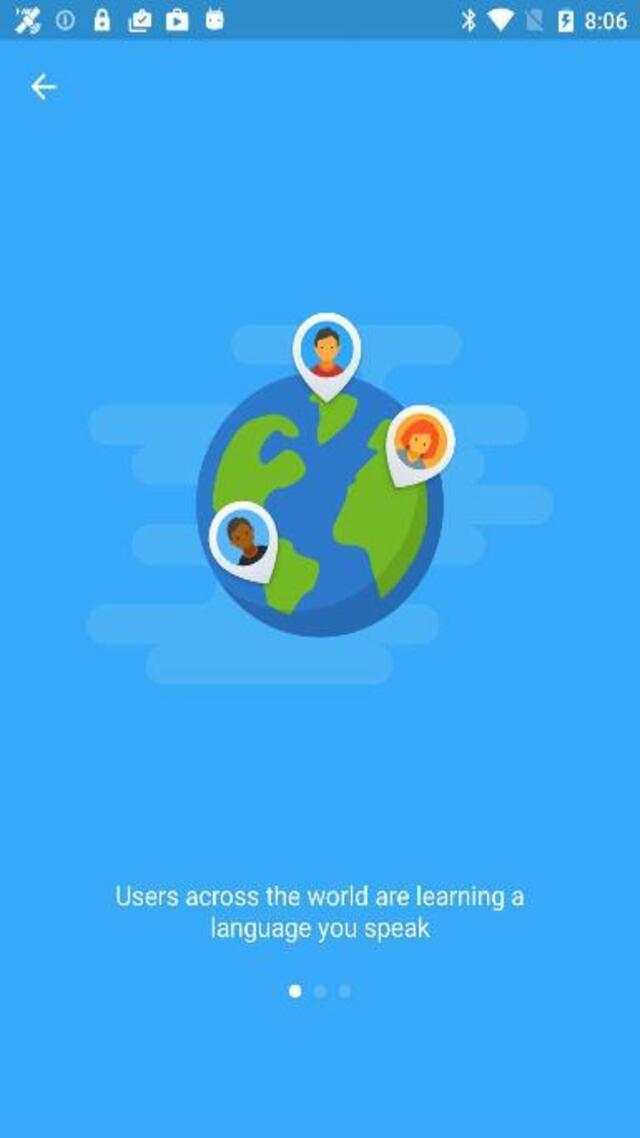Icon: (29, 74, 56, 100)
Image: (88, 312, 554, 684)
Text: (112, 882, 530, 914), (206, 914, 434, 948)
